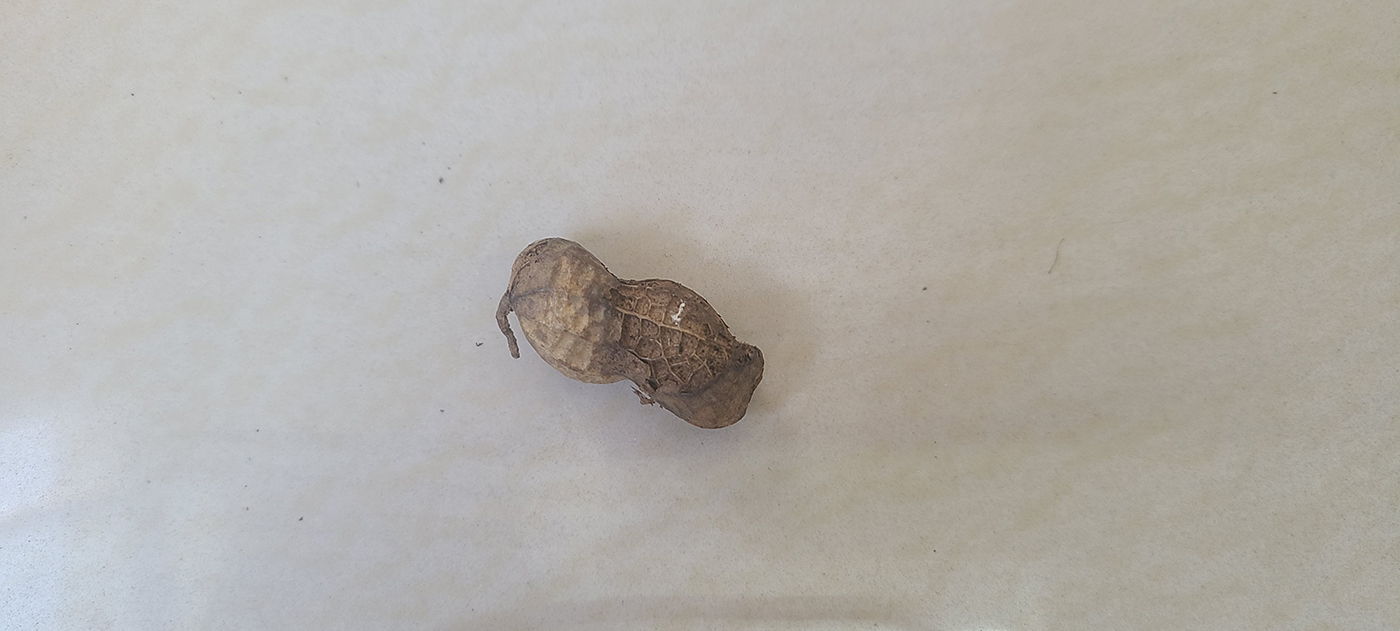l: (494, 238, 766, 431)
